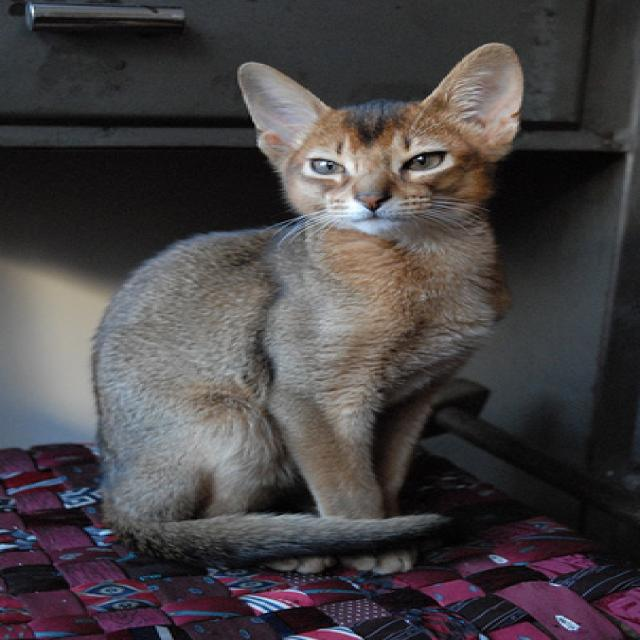Abyssinian: (82, 37, 536, 578)
